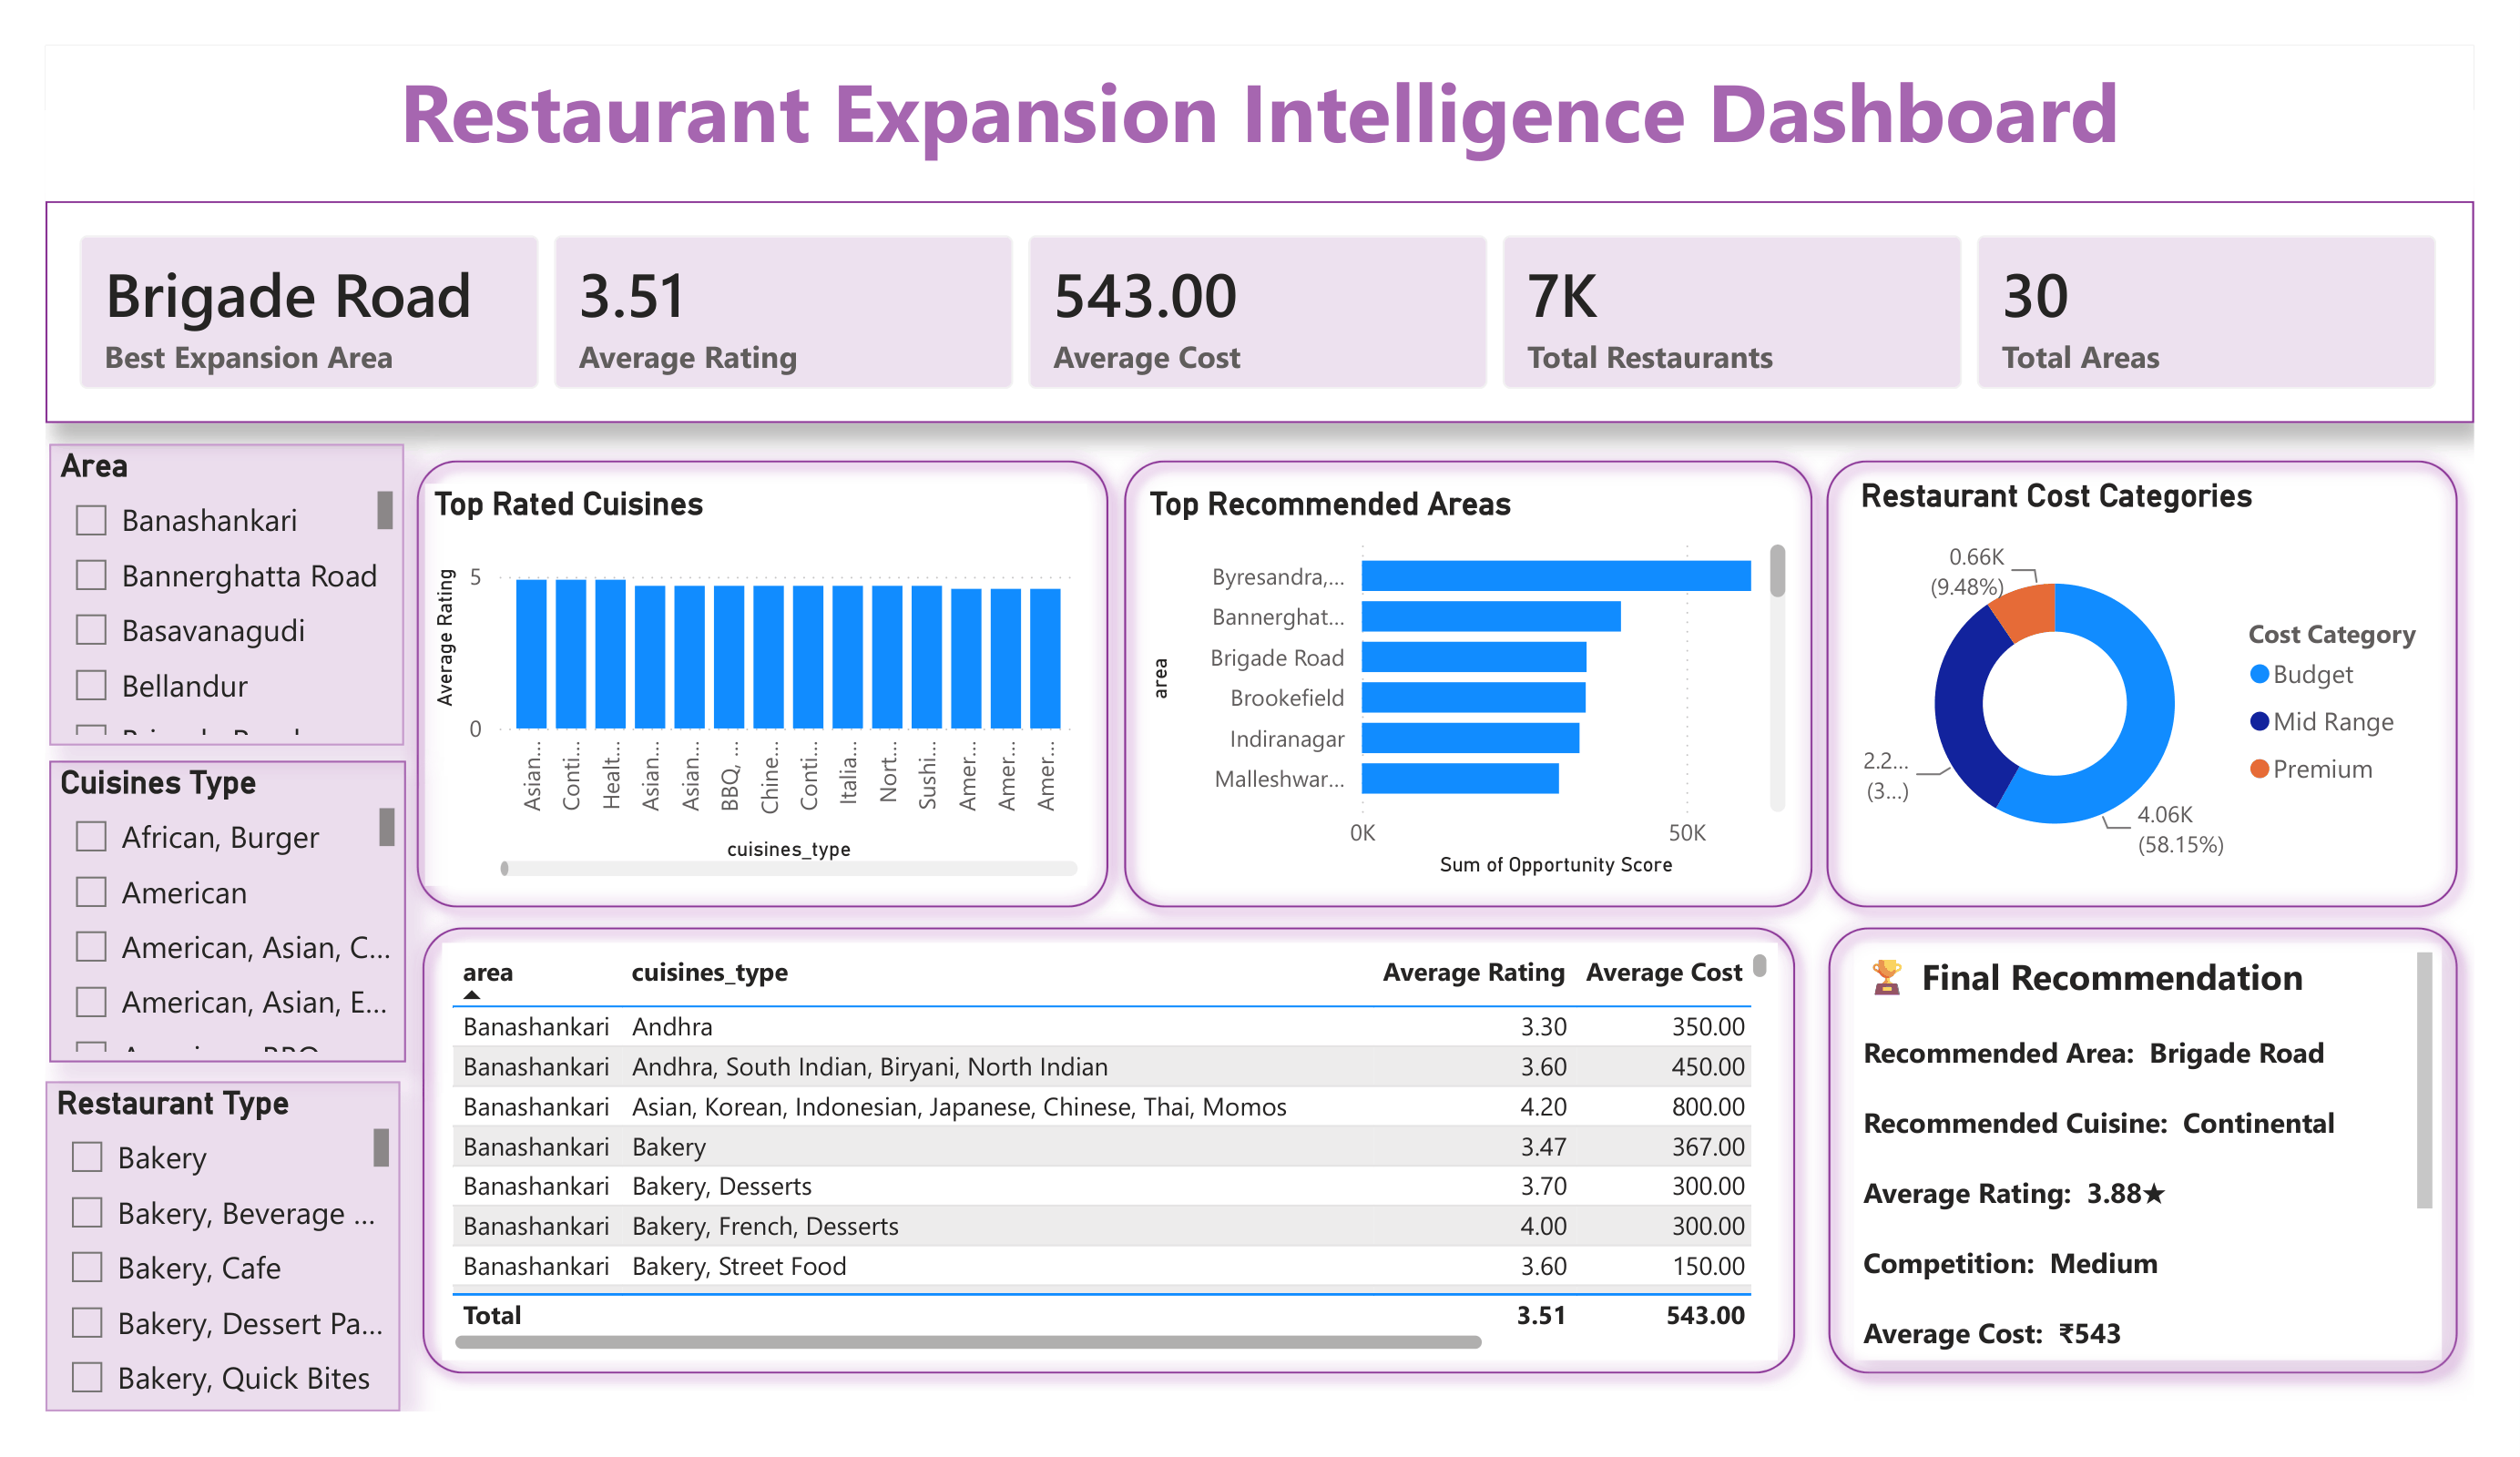

This screenshot's page, from the dashboard's own definition file:
{"tool":"powerbi","page":{"name":"Restaurant Expansion Intelligence","canvas":[1280,720],"ordinal":2},"visuals":[{"type":"cardVisual","fields":{"Data":["public zomato_clean.Best Expansion Area","public zomato_clean.Average Rating","public zomato_clean.Average Cost","public zomato_clean.Total Restaurants","public zomato_clean.Total Areas"]},"box":[0,81.9,1280.3,117.4],"z":0},{"type":"shape","box":[186.7,210,382.2,253.3],"z":1000},{"type":"textbox","box":[0,0,1280.3,81.9],"z":2000},{"type":"clusteredBarChart","title":"Top  Recommended Areas","fields":{"Category":["public zomato_clean.area"],"Y":["Sum(public zomato_clean.Opportunity Score)"]},"box":[576.7,231.1,345.6,212.2],"z":3000},{"type":"clusteredColumnChart","title":"Top Rated Cuisines","fields":{"Category":["public zomato_clean.cuisines_type"],"Y":["public zomato_clean.Average Rating"]},"box":[200,231.1,348.9,212.2],"z":4000},{"type":"donutChart","title":"Restaurant Cost Categories","fields":{"Category":["public zomato_clean.Cost Category"],"Y":["CountNonNull(public zomato_clean.restaurant_name)"]},"box":[952.2,226.7,311.1,221.1],"z":5000},{"type":"shape","box":[189.5,456.1,741,253.1],"z":6000},{"type":"shape","box":[560,210,380,253.3],"z":7000},{"type":"shape","box":[930,210,350,253.3],"z":8000},{"type":"tableEx","fields":{"Values":["public zomato_clean.area","public zomato_clean.cuisines_type","public zomato_clean.Average Rating","public zomato_clean.Average Cost","Sum(public zomato_clean.Opportunity Score)"]},"box":[209,473,704,220],"z":9000},{"type":"slicer","title":"Area","fields":{"Values":["public zomato_clean.area"]},"box":[2.2,210,186.7,158.9],"z":10000},{"type":"slicer","title":"Cuisines Type","fields":{"Values":["public zomato_clean.cuisines_type"]},"box":[2.4,376.6,187.1,159],"z":11000},{"type":"slicer","title":"Restaurant Type","fields":{"Values":["public zomato_clean.restaurant_type"]},"box":[0,545.6,186.7,174.4],"z":12000},{"type":"shape","box":[930.6,456.1,349.7,253.1],"z":13000},{"type":"textbox","box":[952.6,473.2,310.6,220.1],"z":14000}]}

Visuals, with their boxes on the page's 1280x720 design canvas (x1, y1, x2, y2). These are canvas units, not pixel positions in the 2520x1457 screenshot, which may show the page scaled, cropped or inside an application window:
cardVisual - public zomato_clean.Best Expansion Area x public zomato_clean.Average Rating: (left=0, top=82, right=1280, bottom=199)
shape: (left=187, top=210, right=569, bottom=463)
textbox: (left=0, top=0, right=1280, bottom=82)
"Top  Recommended Areas" clusteredBarChart: (left=577, top=231, right=922, bottom=443)
"Top Rated Cuisines" clusteredColumnChart: (left=200, top=231, right=549, bottom=443)
"Restaurant Cost Categories" donutChart: (left=952, top=227, right=1263, bottom=448)
shape: (left=190, top=456, right=930, bottom=709)
shape: (left=560, top=210, right=940, bottom=463)
shape: (left=930, top=210, right=1280, bottom=463)
tableEx - public zomato_clean.area x public zomato_clean.cuisines_type: (left=209, top=473, right=913, bottom=693)
"Area" slicer: (left=2, top=210, right=189, bottom=369)
"Cuisines Type" slicer: (left=2, top=377, right=190, bottom=536)
"Restaurant Type" slicer: (left=0, top=546, right=187, bottom=720)
shape: (left=931, top=456, right=1280, bottom=709)
textbox: (left=953, top=473, right=1263, bottom=693)
